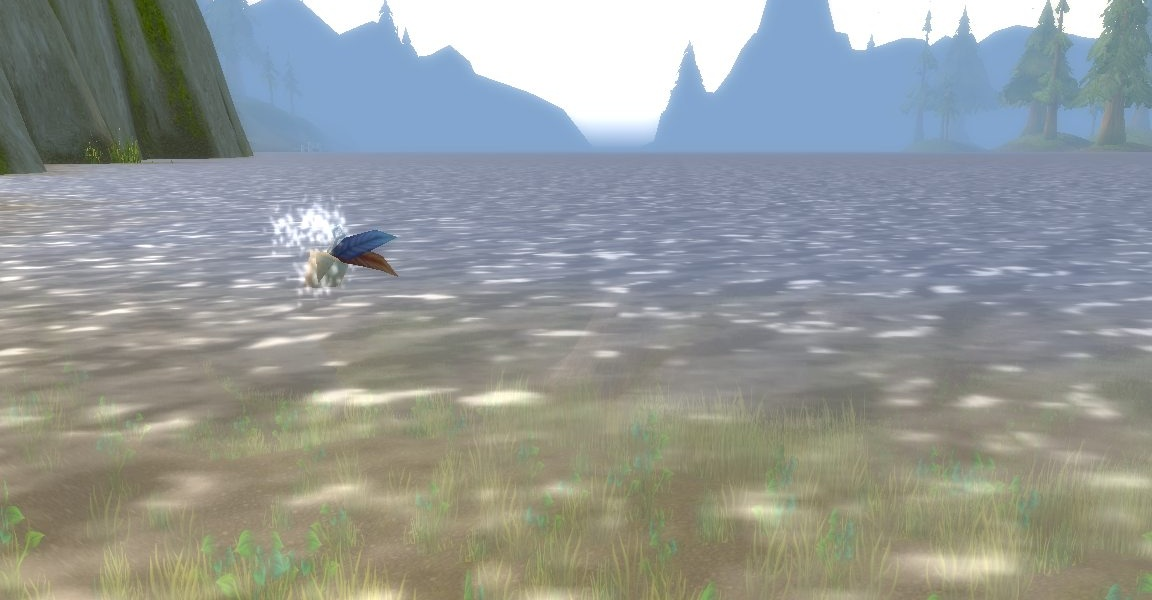Splash: (292, 217, 401, 294)
